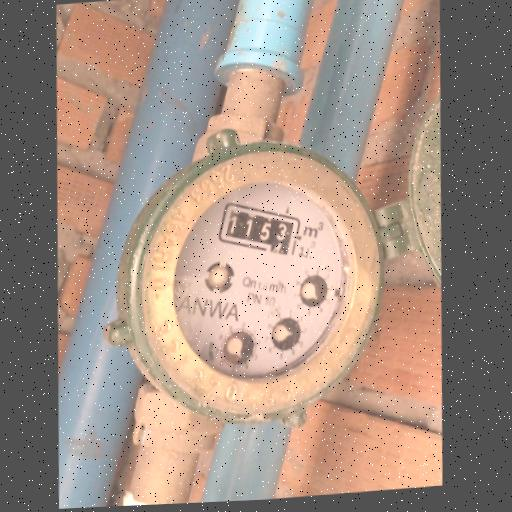1: (237, 211, 257, 243), (222, 207, 242, 238)
3: (268, 218, 293, 256)
5: (253, 214, 275, 245)
border_water_meter_number: (213, 195, 308, 263)
